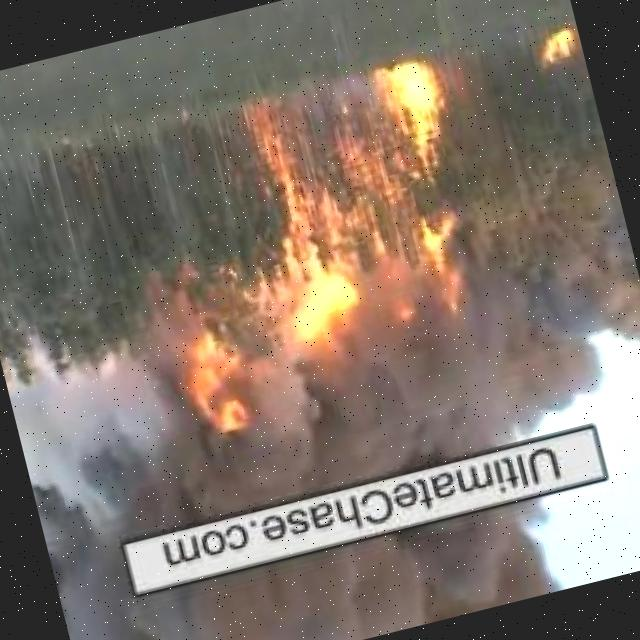fire: (234, 46, 503, 350), (162, 275, 269, 454), (536, 25, 581, 71)
